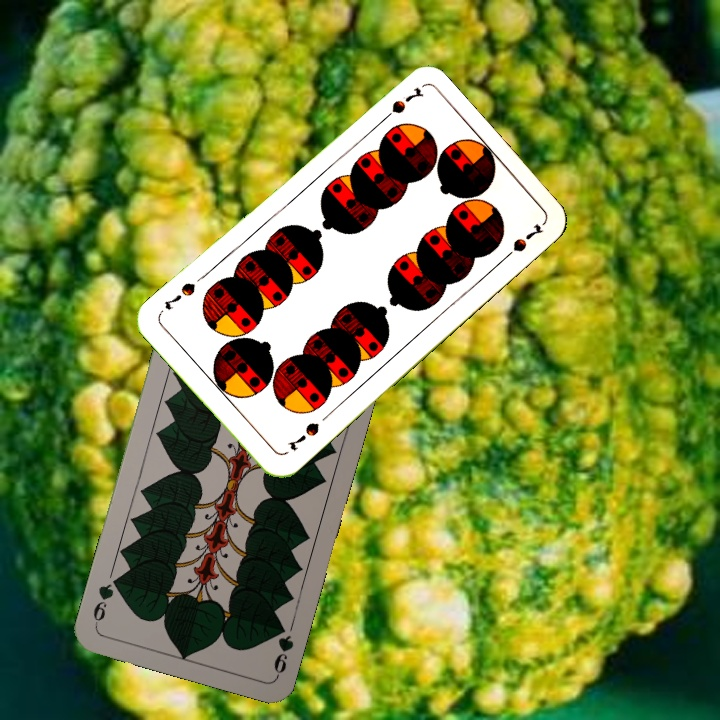G9: (269, 618, 297, 679)
S7: (375, 83, 426, 127), (284, 418, 322, 453)
